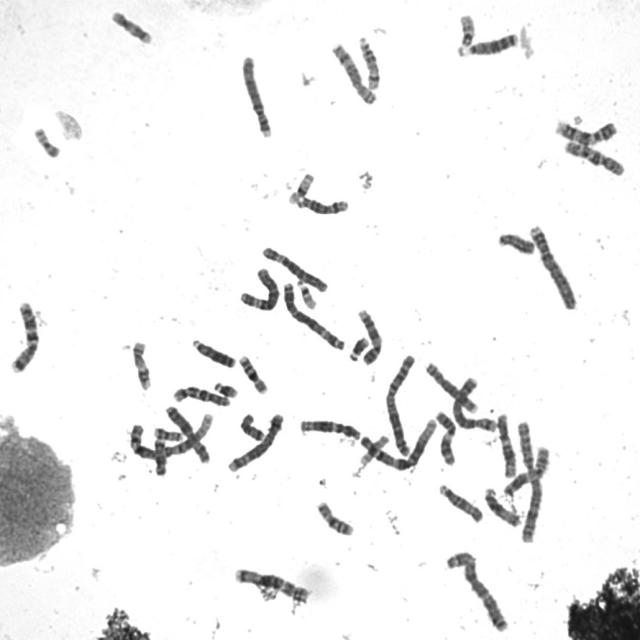A1: (126, 408, 215, 463), (355, 413, 440, 470)
A2: (513, 416, 546, 545), (382, 348, 418, 461)
A3: (442, 546, 511, 635), (279, 276, 346, 352)
B4: (526, 219, 579, 311), (238, 50, 274, 140)
B5: (224, 409, 286, 474), (448, 372, 499, 432)
C10: (560, 137, 627, 178), (170, 382, 233, 408)
C11: (499, 440, 552, 498), (432, 406, 458, 466)
C12: (493, 408, 518, 479), (296, 415, 363, 441)
C6: (258, 241, 330, 294), (235, 263, 281, 311)
C7: (230, 562, 311, 608), (6, 296, 41, 375)
C8: (327, 38, 379, 106), (421, 357, 480, 415)
C9: (550, 114, 619, 148), (354, 305, 385, 366)
D13: (454, 27, 520, 58), (188, 334, 237, 369)
D14: (355, 32, 382, 91), (293, 191, 351, 216)
D15: (434, 480, 485, 524), (480, 484, 523, 528)
E16: (312, 497, 356, 538), (235, 350, 270, 396)
E17: (107, 5, 154, 46), (128, 336, 152, 392)
E18: (236, 409, 266, 442), (150, 431, 170, 477)
F19: (356, 431, 391, 467), (285, 167, 316, 206)
F20: (30, 122, 62, 160), (152, 424, 186, 443)
G21: (345, 332, 371, 362), (210, 377, 239, 399)
G22: (453, 9, 477, 57), (293, 275, 318, 311)
X: (162, 402, 212, 465)
Y: (495, 228, 536, 256)
